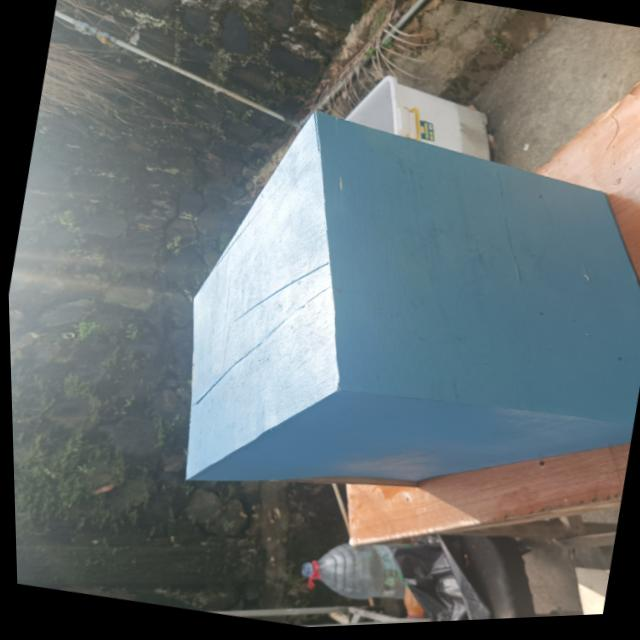blue_box: (75, 28, 640, 578)
